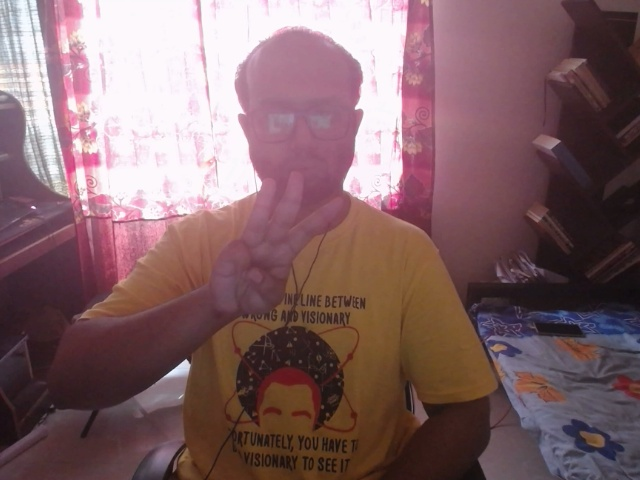three: (222, 150, 371, 304)
